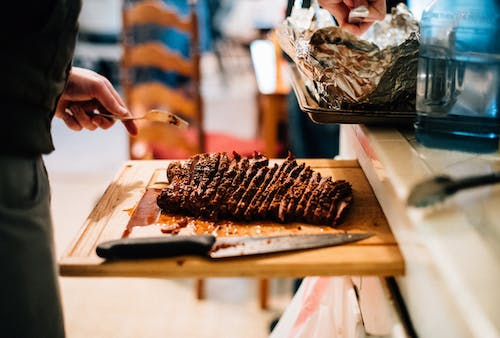knife: (94, 230, 380, 260)
